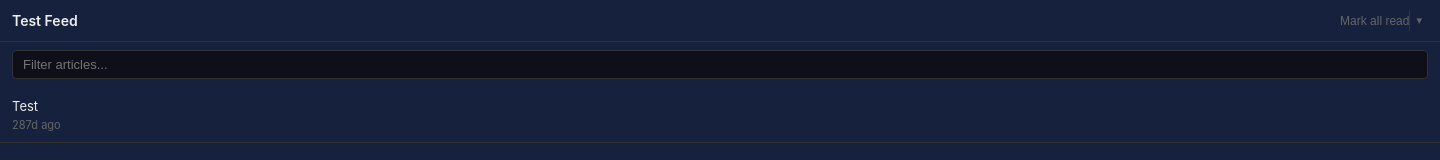
Test: ArticleList split button › opens dropdown menu and shows "Mark older than…" option
The width and height of the screenshot is (1440, 160).
Click the button named "More mark-read options" at (1419, 20), box left=1410, top=10, right=1428, bottom=31
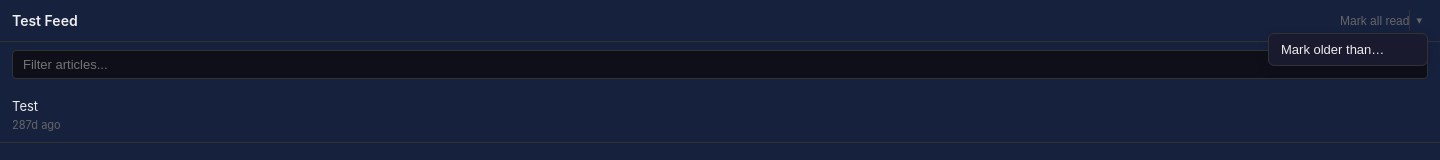
Expected: the button "Mark older than…" is shown, left=1269, top=34, right=1427, bottom=65
